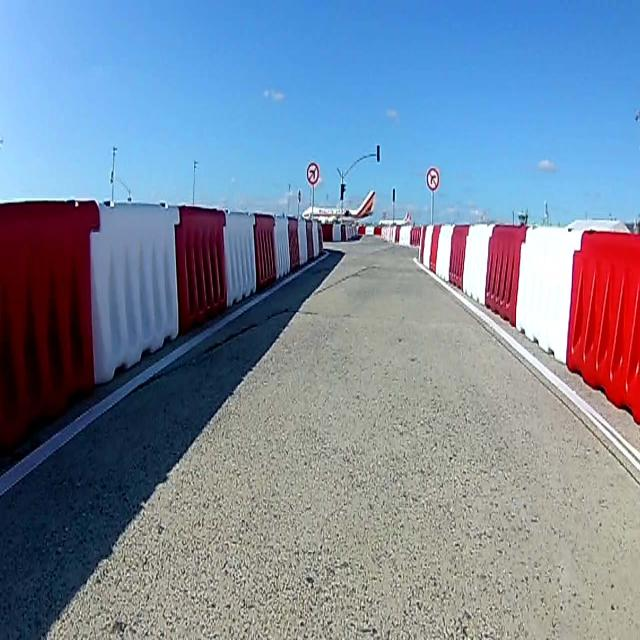sagadonulmez: (426, 167, 440, 193)
soladonulmez: (306, 160, 318, 184)
